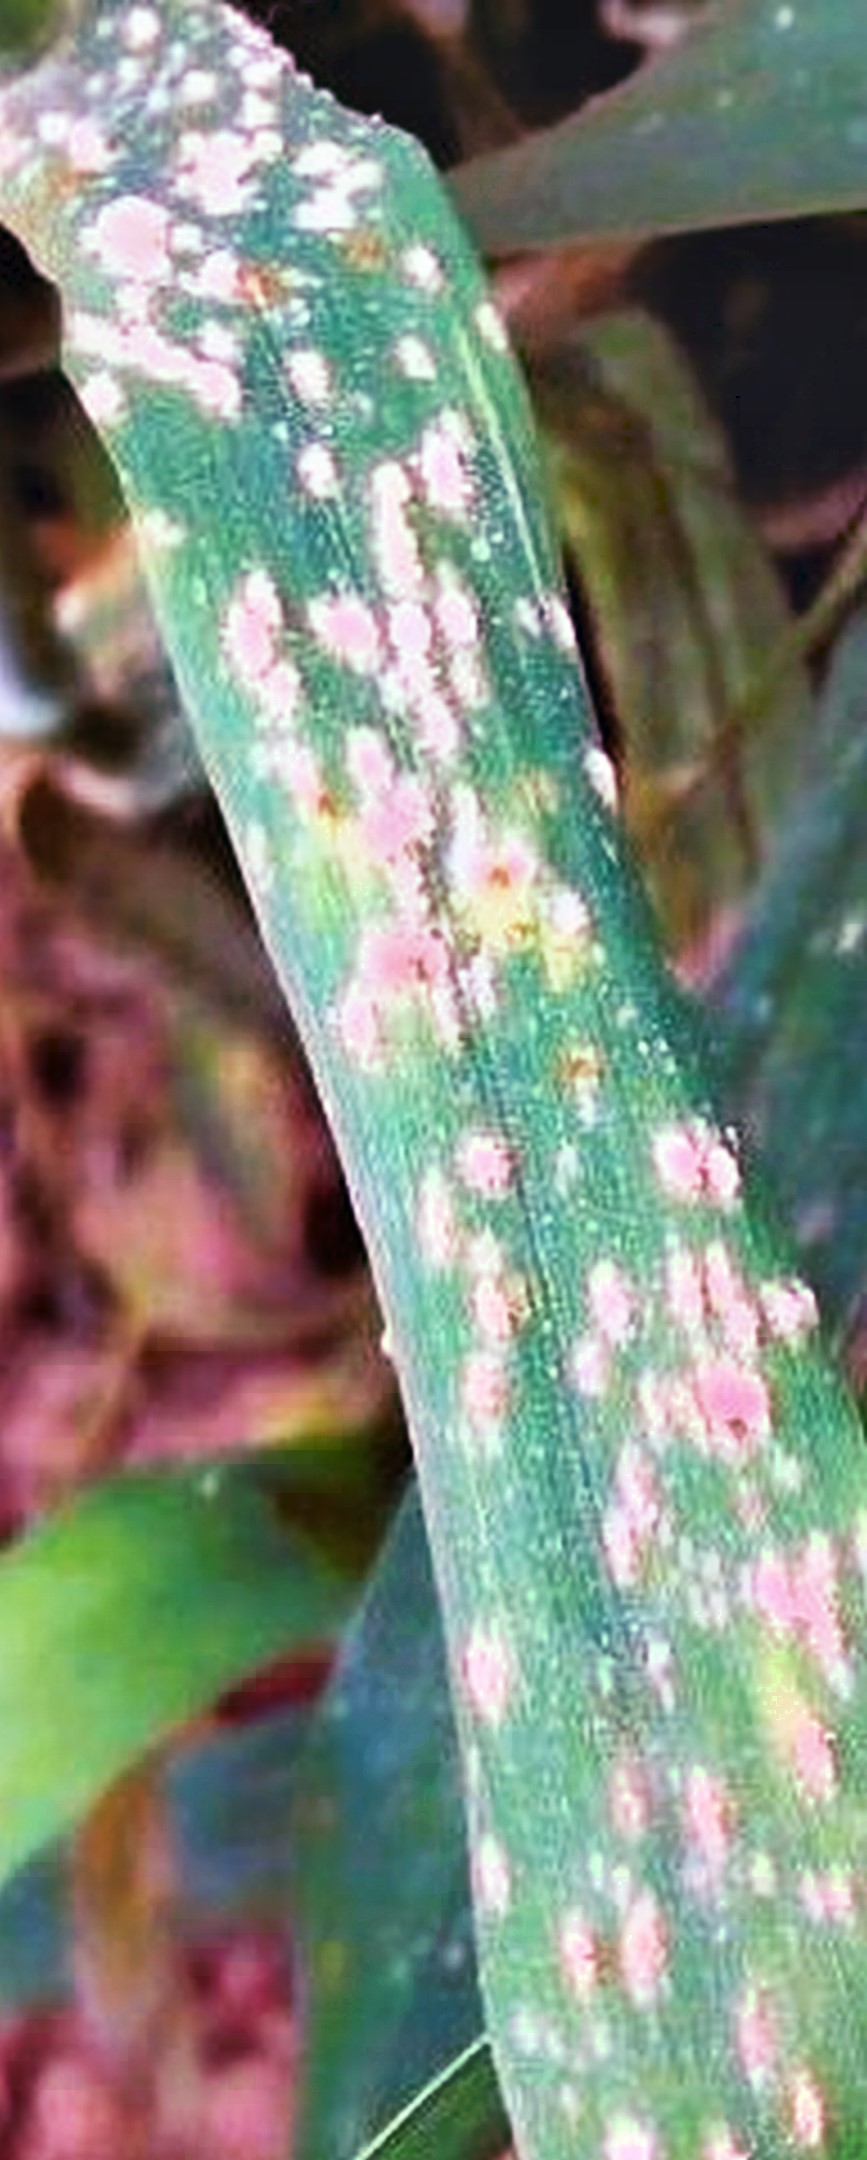Powdery Mildew: (112, 141, 867, 1933)
